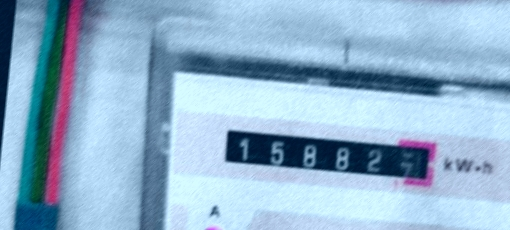1: (235, 135, 252, 161)
2: (365, 146, 382, 172)
5: (267, 137, 286, 165)
7: (397, 158, 413, 178)
8: (300, 142, 318, 169), (333, 144, 350, 170)
screen: (208, 112, 446, 198)
